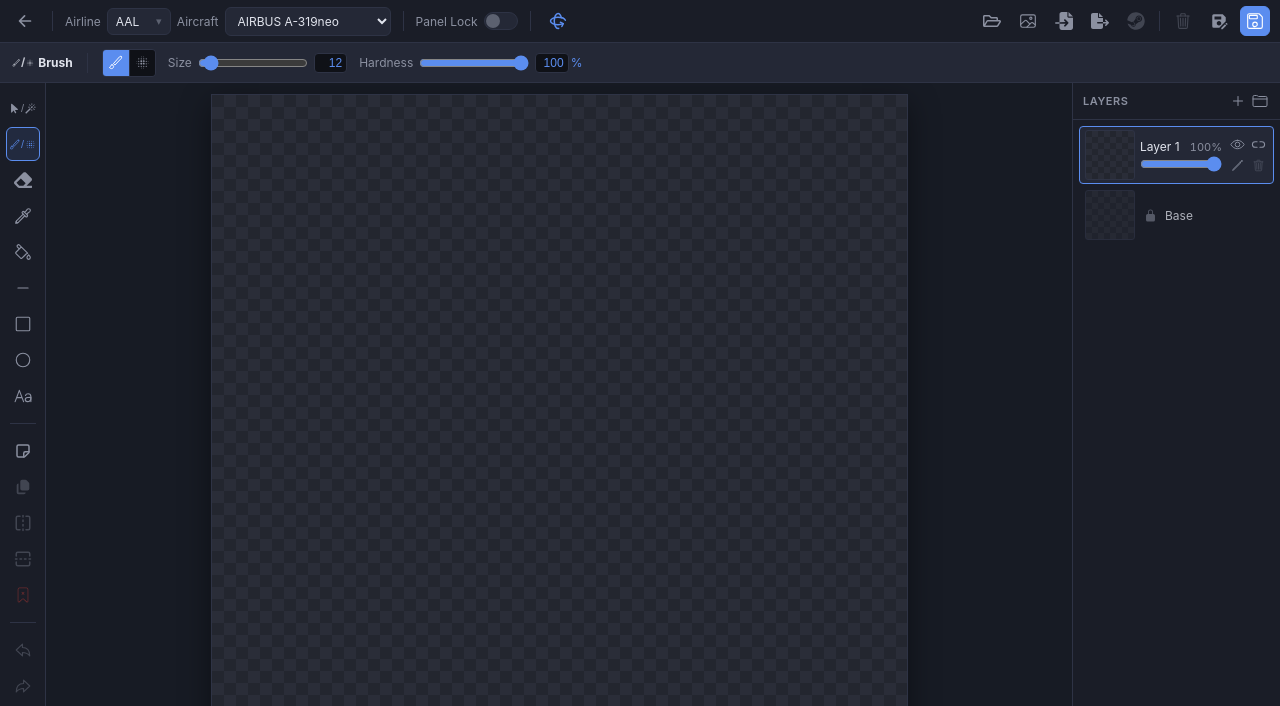
Test: CreateTab painter validation › Ctrl+S opens Save; Ctrl+Shift+S opens Save As
Ctrl+S → the Save dialog (its confirm button is exactly "Save").
Press s
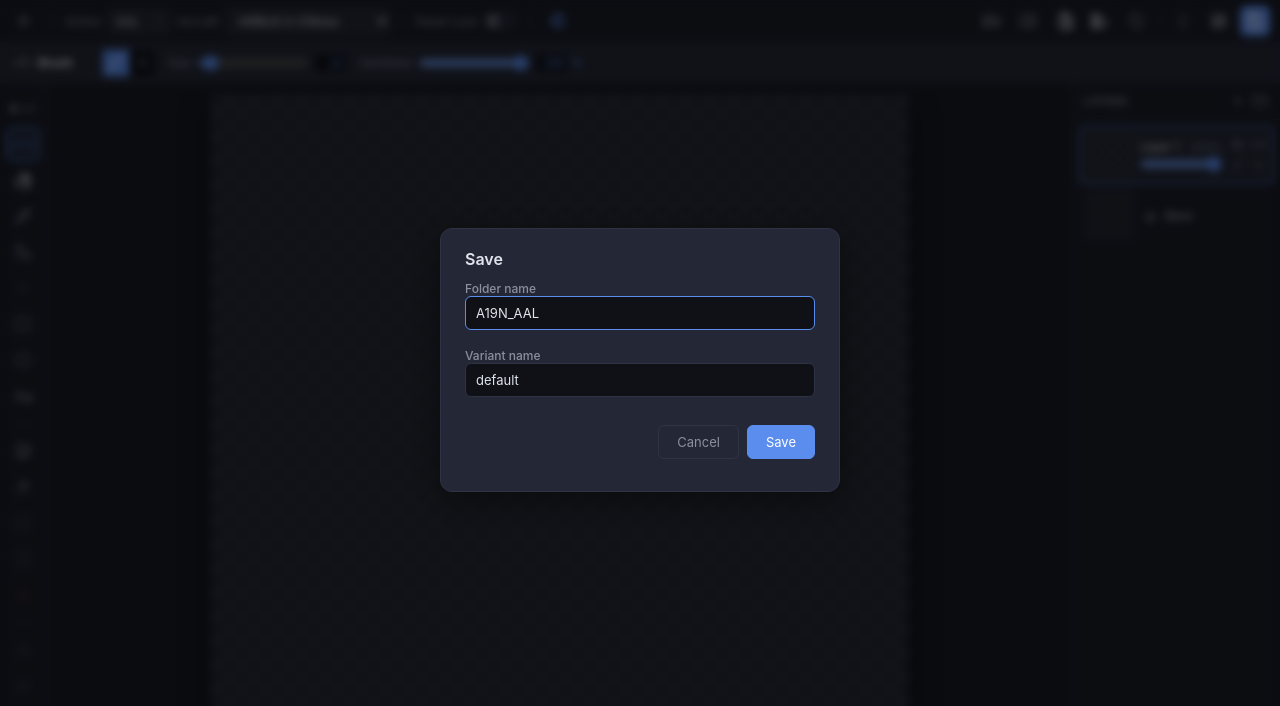
Check: the field labelled "Folder name" is shown, box x1=465 y1=296 x2=815 y2=330
Check: the button "Save" is shown, box x1=747 y1=425 x2=815 y2=459
Close it, then Ctrl+Shift+S → the Save As dialog.
Click the button "Cancel" at (699, 442), box x1=658 y1=425 x2=739 y2=459
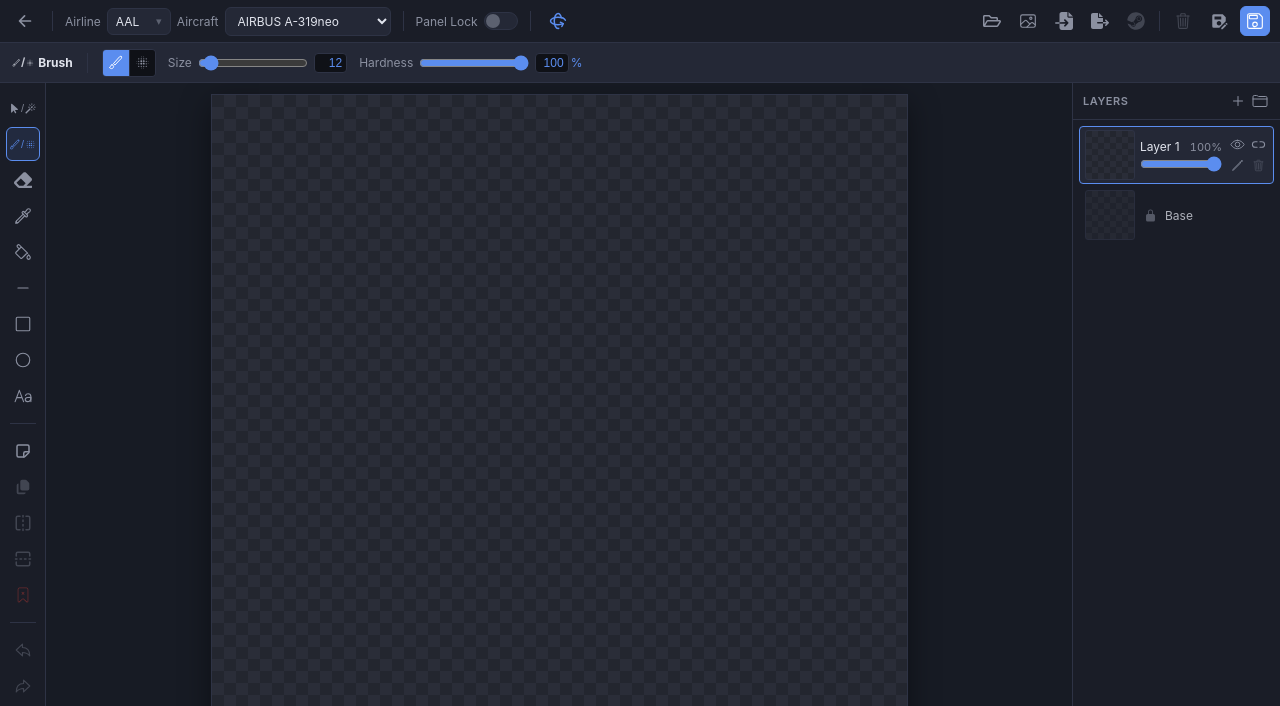
Check: the element with id "modal-box" is gone
Press S
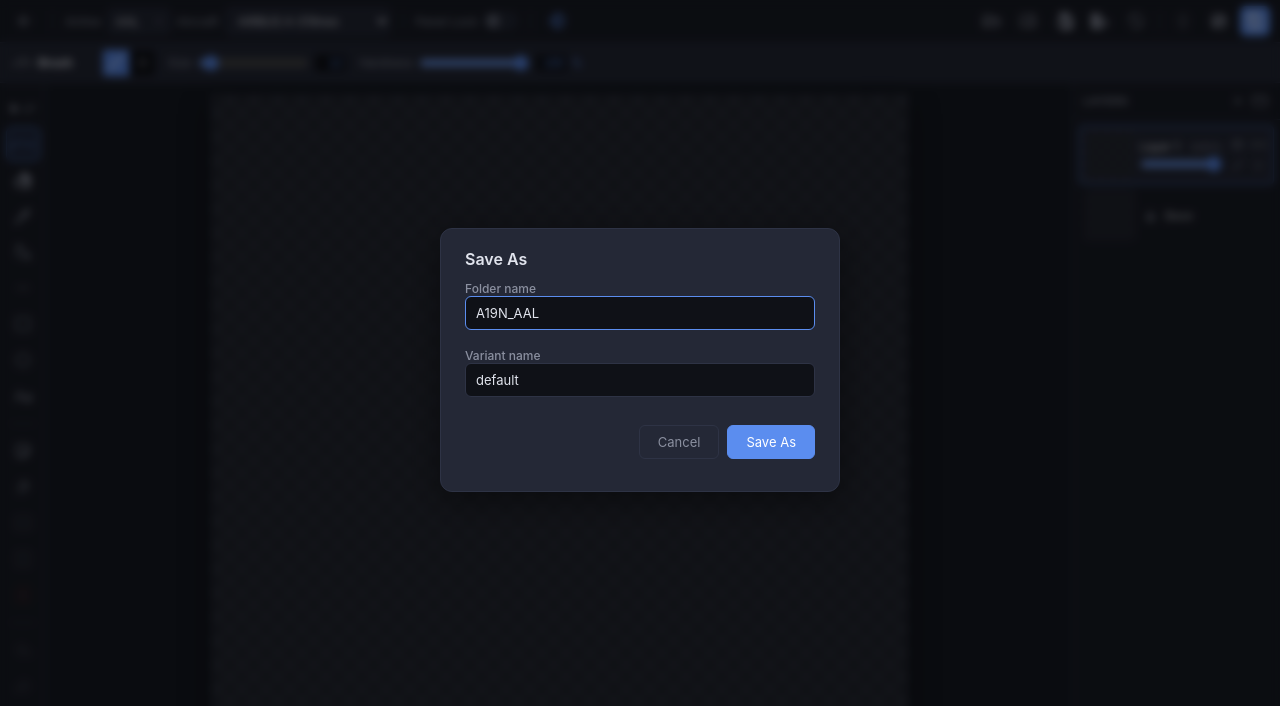
Check: the field labelled "Folder name" is shown, box x1=465 y1=296 x2=815 y2=330
Check: the button "Save As" is shown, box x1=727 y1=425 x2=815 y2=459
